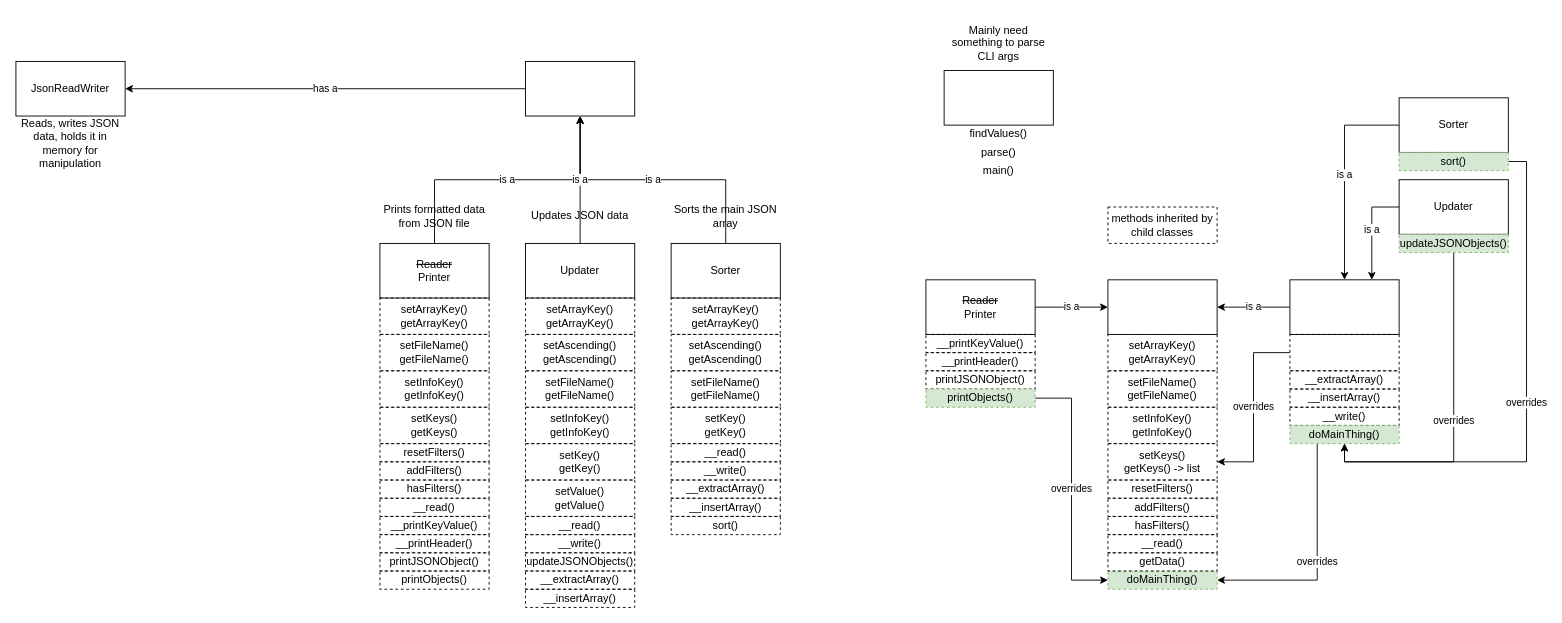
Image size: 1562x623. Some labels were removed from this diagram. Here are the shapes that lost their labels. From the top down, the box of each, then its label:
(525, 61, 635, 116): Base (Manipulator?)
(943, 70, 1053, 125): Parser?
(1107, 279, 1217, 334): Accessor
(1289, 279, 1399, 334): Editor
(1289, 334, 1399, 371): setInfo() getInfo() -> dict
